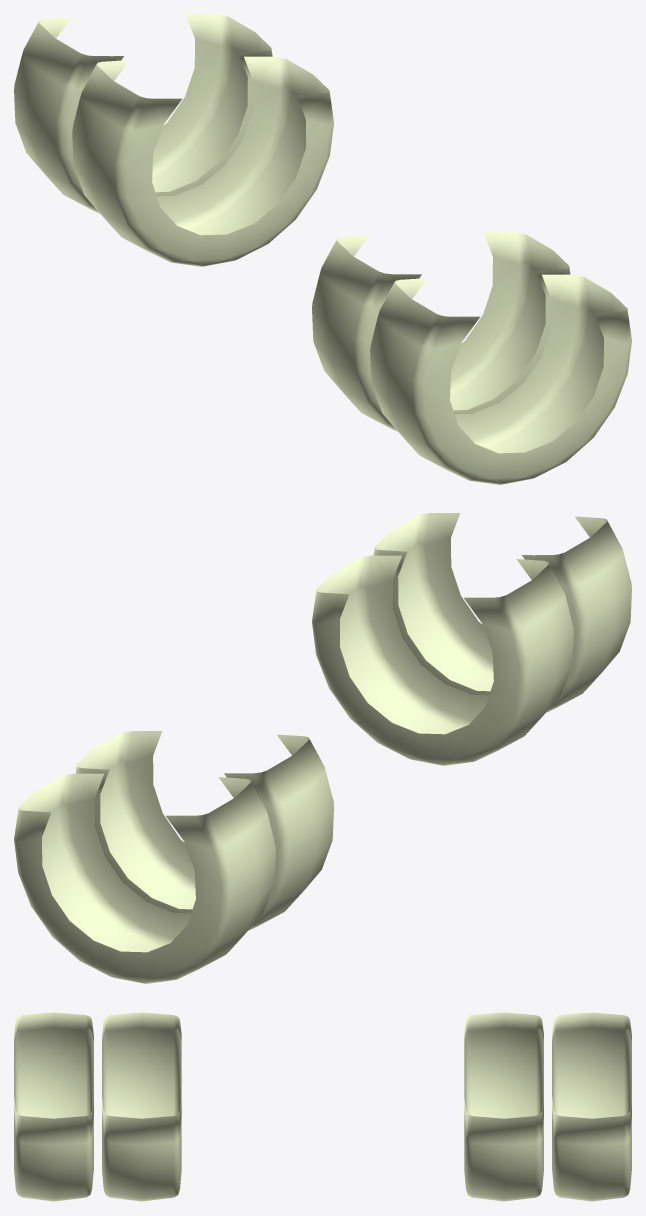
The picture shows the model from 3 angles, top to bottom: view 1: azimuth 30°, elevation 25°; view 2: azimuth 150°, elevation 25°; view 3: azimuth 270°, elevation 25°; orthographic projection. The views are drawn at different scales.
Visible parts, largest first — view 1: MOBILE_BASE_V2; view 2: MOBILE_BASE_V2; view 3: MOBILE_BASE_V2.
Part boxes in pixels (x1,y1,x2,y2): MOBILE_BASE_V2: (14, 14, 631, 484); MOBILE_BASE_V2: (14, 513, 631, 983); MOBILE_BASE_V2: (14, 1012, 631, 1201).
Size of the model in its own units: 0.0748 by 0.232 by 0.0606.
